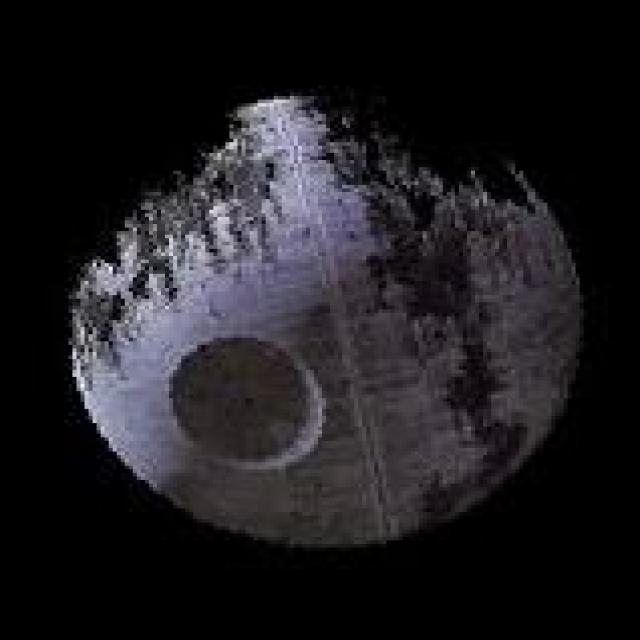Death Star: (60, 85, 588, 555)
